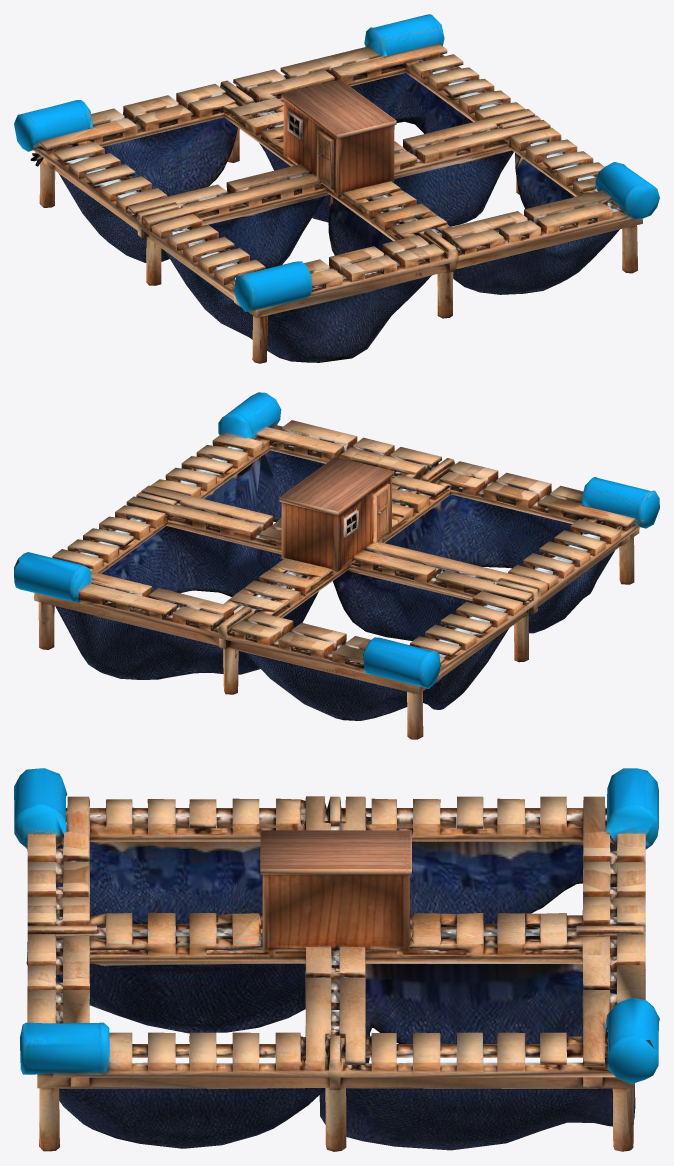
Rendered from fishfarm.glb.
The picture shows the model from 3 angles, top to bottom: view 1: azimuth 30°, elevation 25°; view 2: azimuth 150°, elevation 25°; view 3: azimuth 270°, elevation 25°; orthographic projection. The views are drawn at different scales.
Visible parts, largest first — view 1: fishfarm; view 2: fishfarm; view 3: fishfarm.
Part boxes in pixels (x1,y1,x2,y2): fishfarm: [14, 14, 659, 363]; fishfarm: [14, 392, 659, 739]; fishfarm: [14, 768, 659, 1151].
Size of the model in its own units: 0.9989 by 0.3352 by 1.
Materials: 1 (1 with a texture image).
